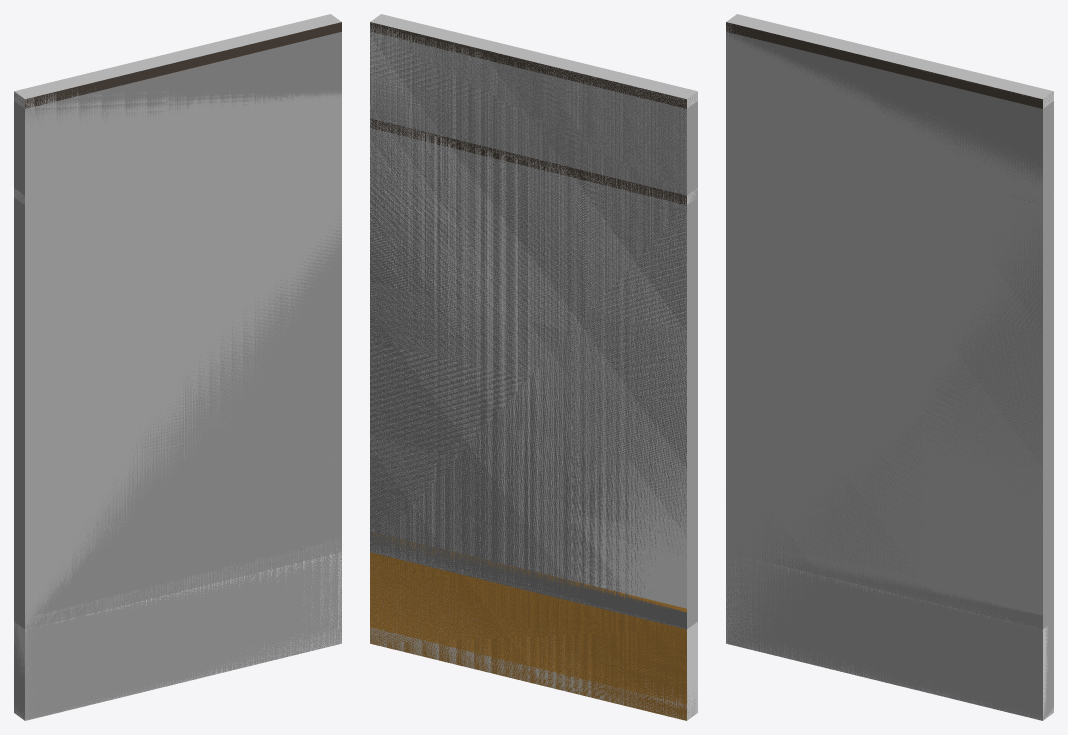
File: s_wh_wall_5m.dae
3 renders of one model, left to right at view 1: azimuth 30°, elevation 25°; view 2: azimuth 150°, elevation 25°; view 3: azimuth 330°, elevation 25°, orthographic.
Visible parts, largest first — view 1: Colmesh_s_wh_wall_5m-1, s_wh_wall_5m_L40, s_wh_wall_5m_L70; view 2: s_wh_wall_5m_L40, s_wh_wall_5m_L70, Colmesh_s_wh_wall_5m-1; view 3: Colmesh_s_wh_wall_5m-1, s_wh_wall_5m_L40, s_wh_wall_5m_L70.
Boxes of the visible parts, <box> form: Colmesh_s_wh_wall_5m-1: <box>14,23,341,719</box>; s_wh_wall_5m_L40: <box>14,14,341,720</box>; s_wh_wall_5m_L70: <box>14,91,341,720</box>; s_wh_wall_5m_L40: <box>370,14,697,720</box>; s_wh_wall_5m_L70: <box>370,91,697,720</box>; Colmesh_s_wh_wall_5m-1: <box>370,22,697,719</box>; Colmesh_s_wh_wall_5m-1: <box>726,22,1053,719</box>; s_wh_wall_5m_L40: <box>726,14,1053,720</box>; s_wh_wall_5m_L70: <box>726,91,1053,720</box>.
Size of the model in its own units: 5 by 0.3001 by 9.38.
